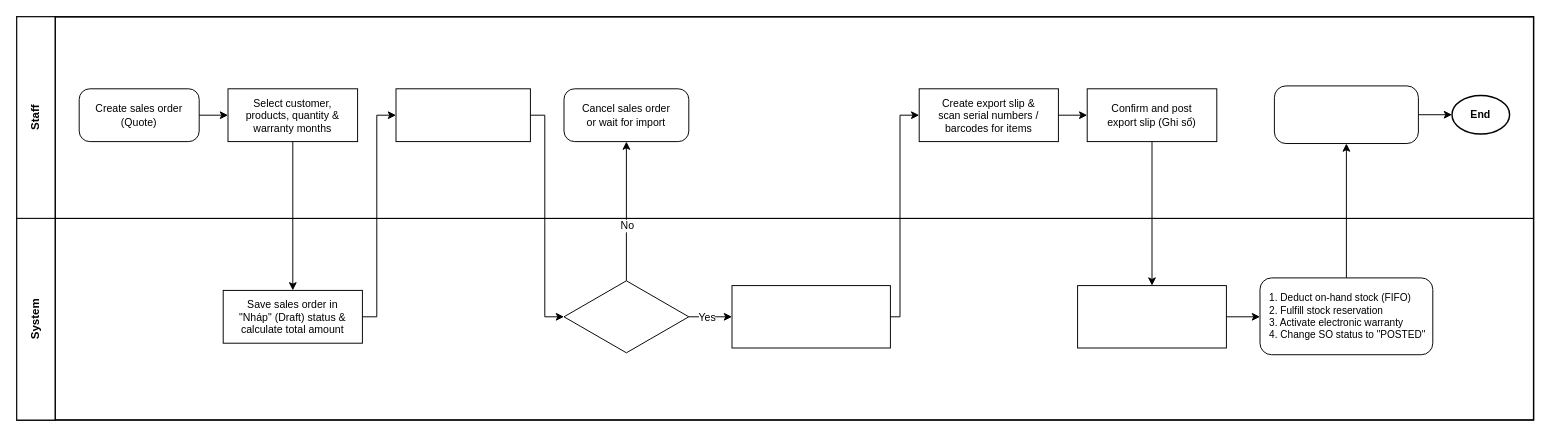
Some shapes in this 1551 by 438 pixel diagram are drawn without their labels. Each missing label, with the centre of its shape:
Auto-create stock reservation (Hold stock) & change status to "Đã duyệt": [810,316]
Check available stock?: [626,316]
Print export slip kiêm phiếu bảo hành & record payment: [1345,114]
Review and approve sales order (Duyệt đơn): [462,115]
Validate serial numbers, check stock availability & serial status AVAILABLE: [1151,316]
